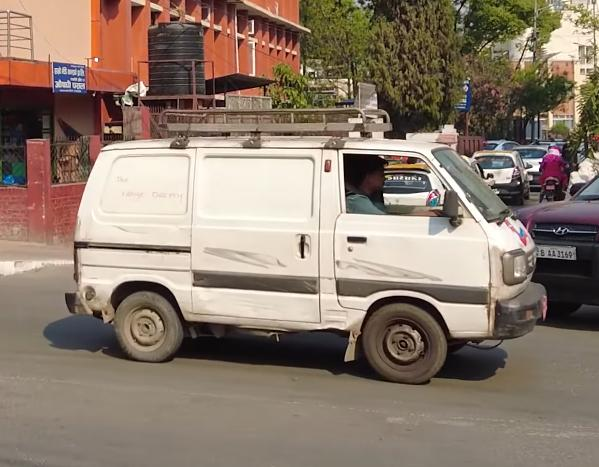van: (62, 129, 549, 389)
